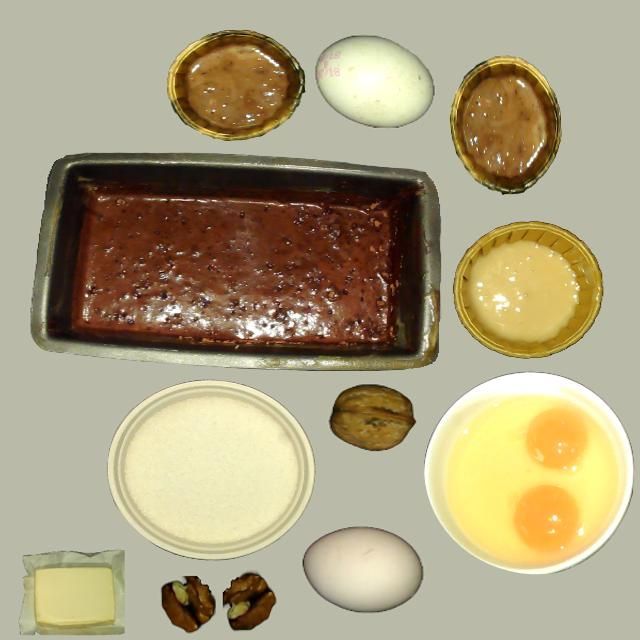Egg: (513, 485, 580, 551), (524, 408, 589, 470)
Sugar: (123, 392, 298, 549)
Walnut: (330, 384, 414, 451)
